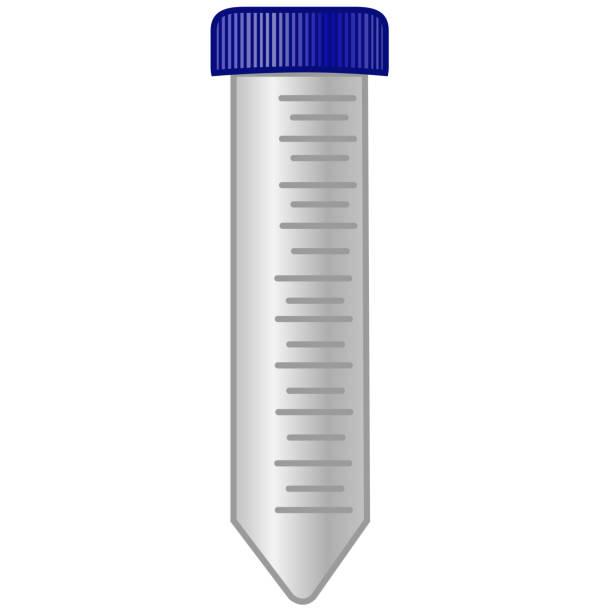Test tube: (201, 5, 397, 609)
